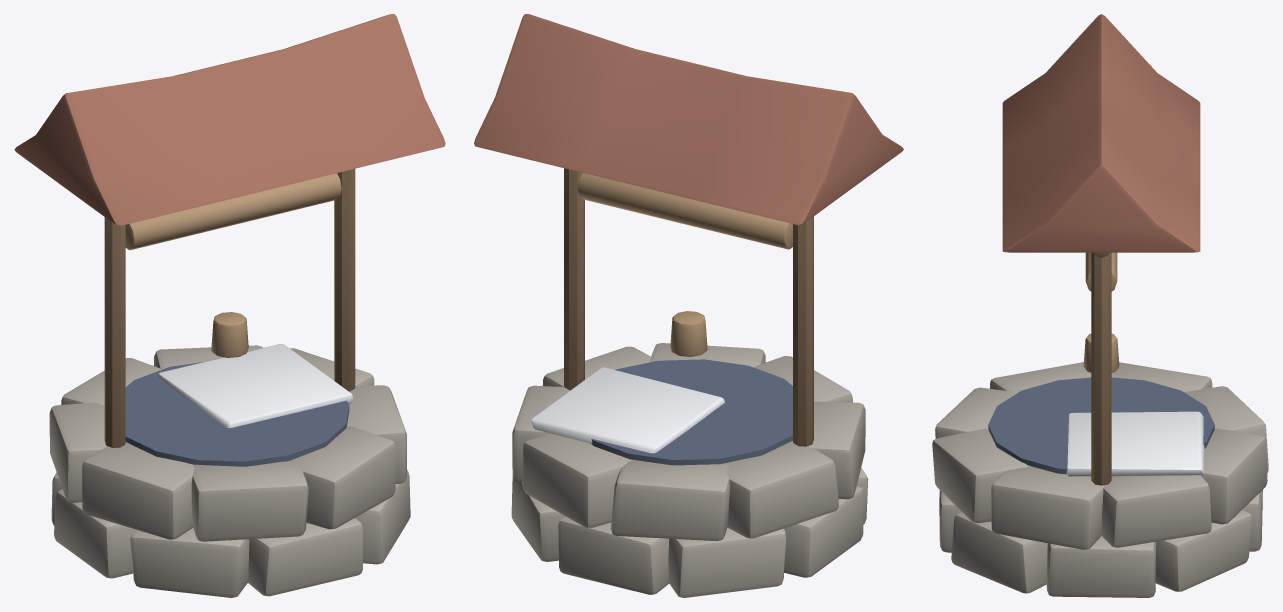
Rendered from well.glb.
3 renders of one model, left to right at view 1: azimuth 30°, elevation 25°; view 2: azimuth 150°, elevation 25°; view 3: azimuth 270°, elevation 25°, orthographic. The views are drawn at different scales.
Visible parts, largest first — view 1: well; view 2: well; view 3: well.
Part boxes in pixels (x1,y1,x2,y2): well: [14, 14, 445, 597]; well: [474, 14, 903, 597]; well: [932, 14, 1268, 597].
Size of what is drawn, in the model's own units: 3.2 by 4.32 by 2.97.
